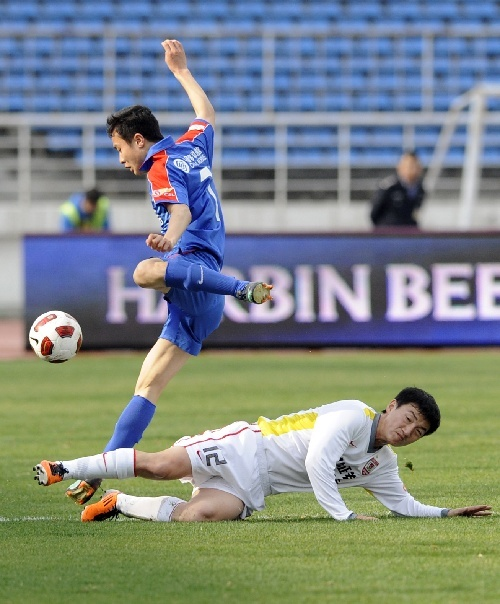falling: (34, 386, 473, 526)
